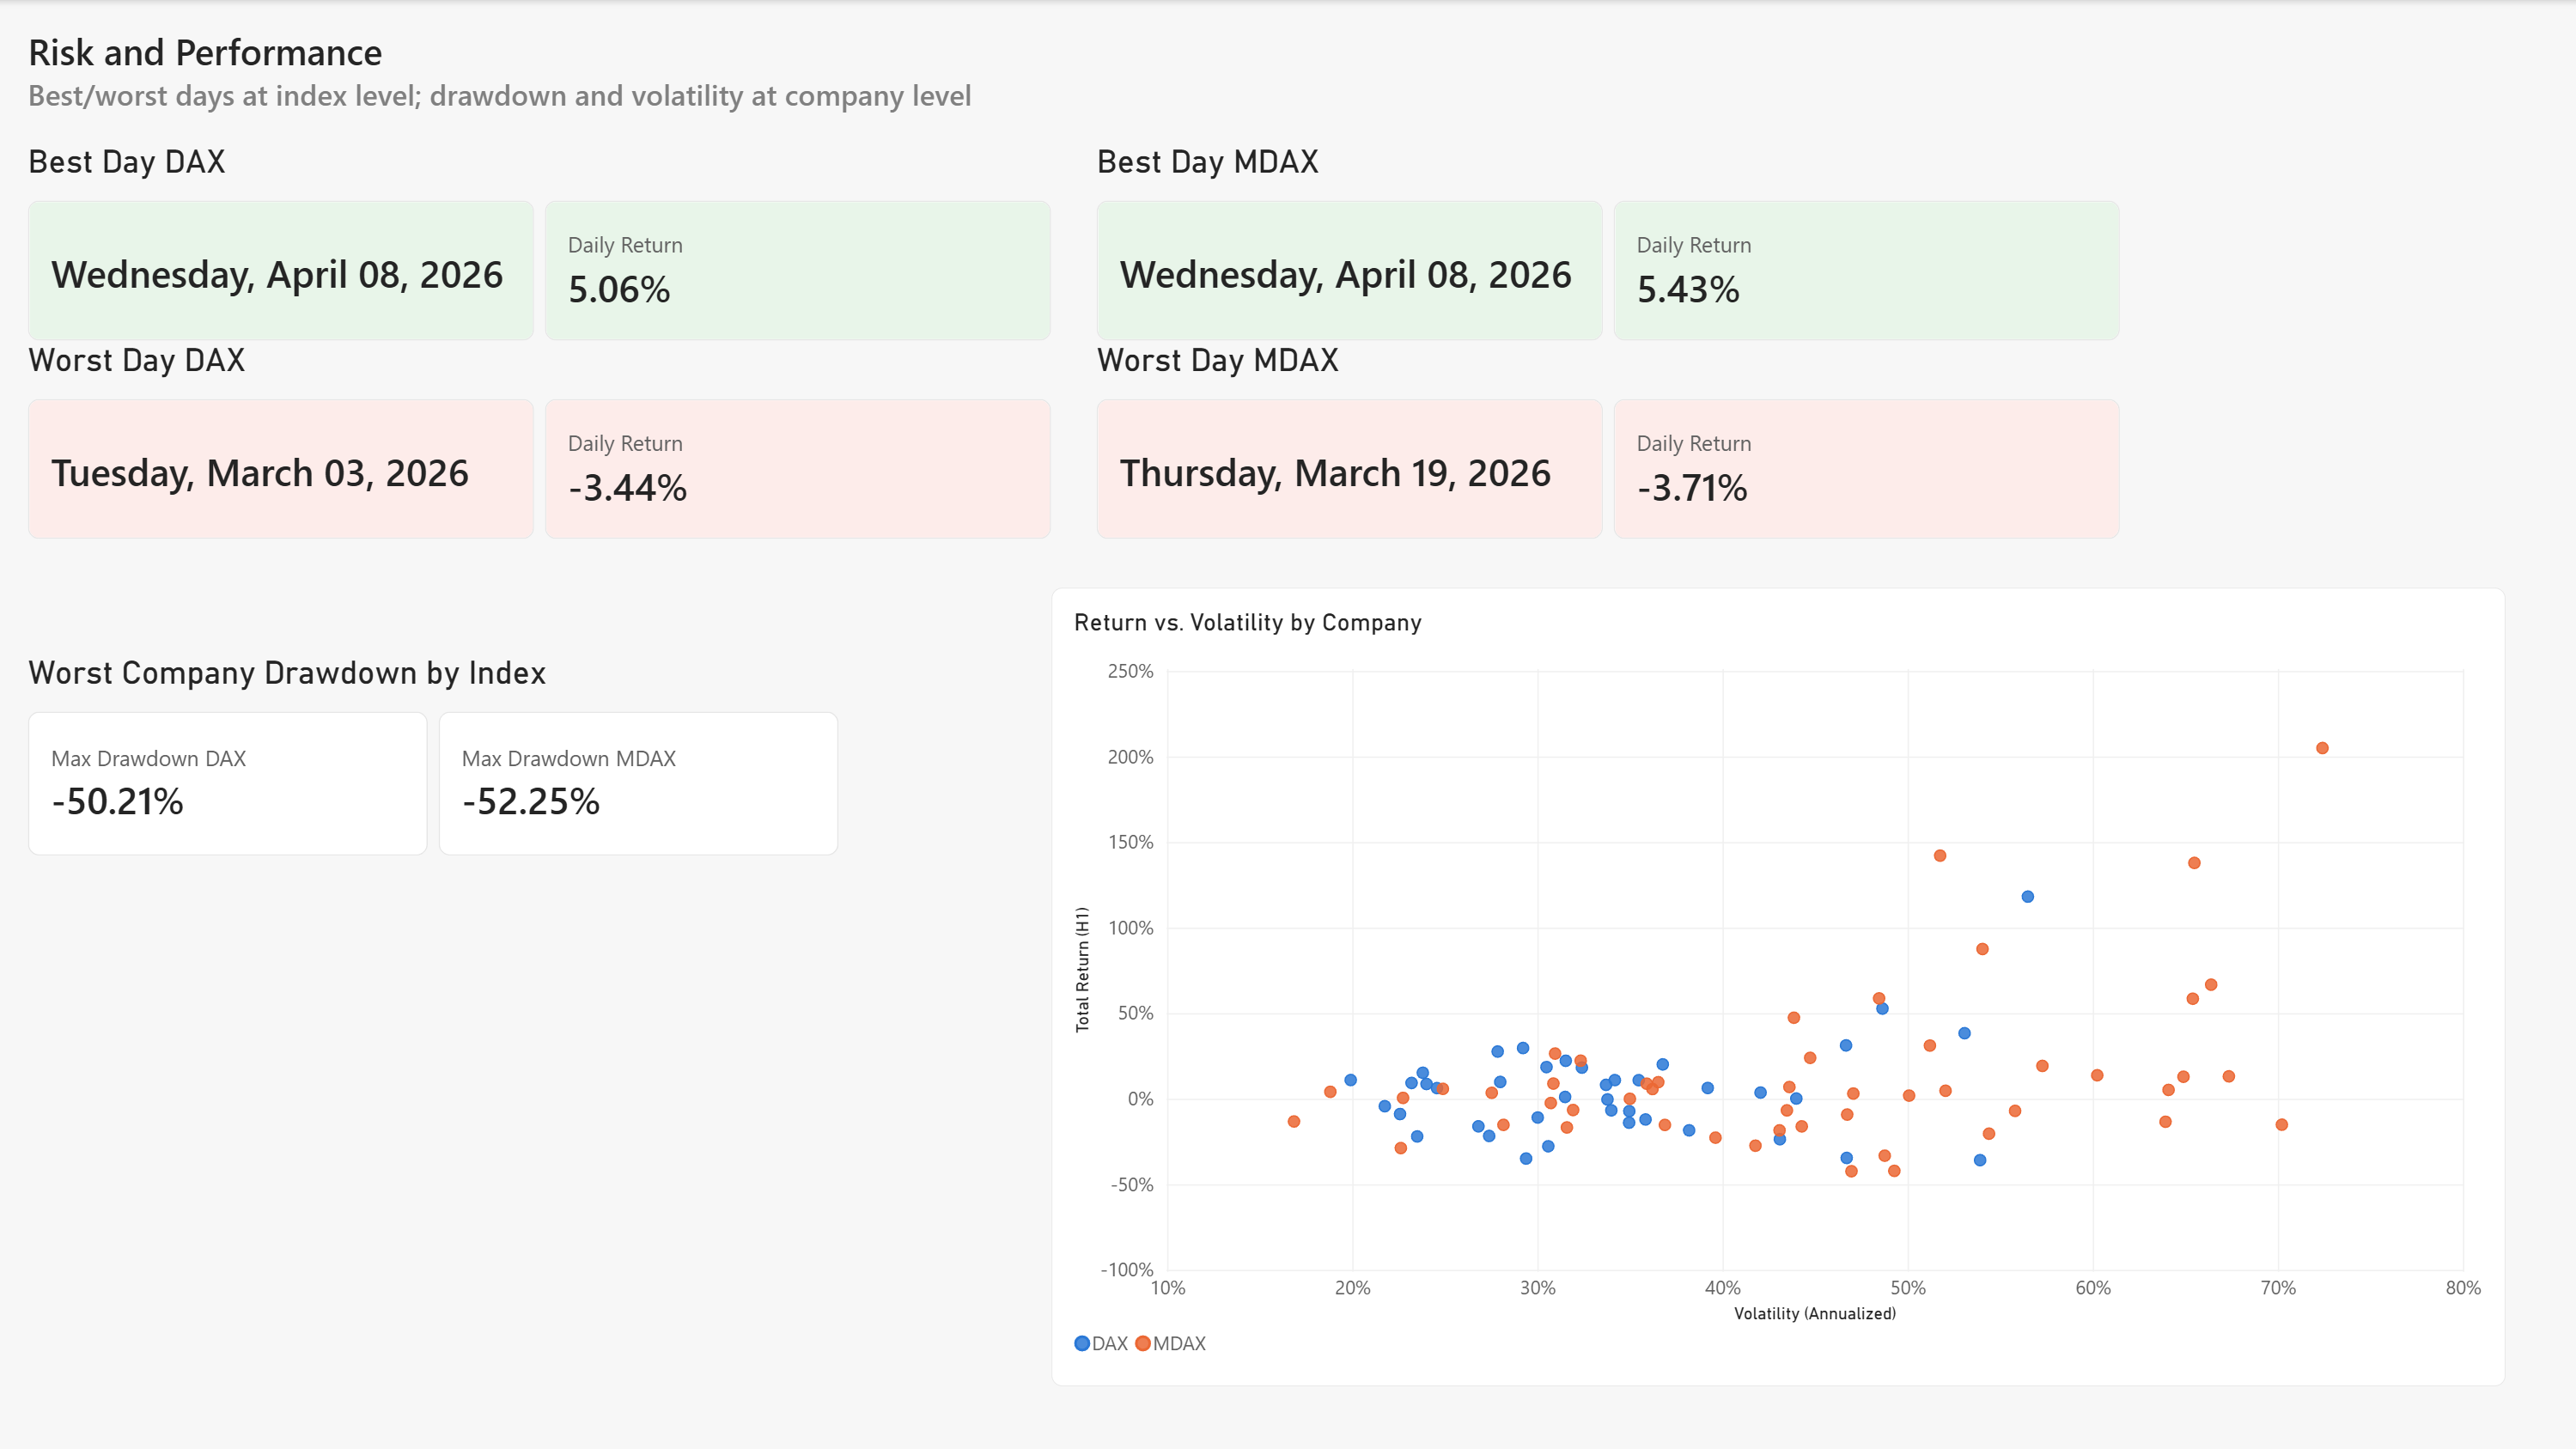

This screenshot's page, from the dashboard's own definition file:
{"tool":"powerbi","page":{"name":"Risk and Performance","canvas":[1920,1080],"ordinal":1},"visuals":[{"type":"scatterChart","title":"Return vs. Volatility by Company","fields":{"Category":["Fact_CompanySummary.name"],"Series":["Fact_CompanySummary.index_group"],"X":["Sum(Fact_CompanySummary.volatility_annualized)"],"Y":["Sum(Fact_CompanySummary.total_return)"]},"box":[784.7,437,1079.8,593.1],"z":0},{"type":"textbox","box":[24.1,19.9,627.2,150.4],"z":1000},{"type":"cardVisual","title":"Worst Day DAX","fields":{"Data":["Min(Fact_DailyMarketData.date)","Sum(Fact_DailyMarketData.daily_return)"]},"box":[24.1,254,760.5,147.6],"z":2000},{"type":"cardVisual","title":"Best Day MDAX","fields":{"Data":["Min(Fact_DailyMarketData.date)","Sum(Fact_DailyMarketData.daily_return)"]},"box":[818.7,106.4,760.5,147.6],"z":3000},{"type":"cardVisual","title":"Worst Day MDAX","fields":{"Data":["Min(Fact_DailyMarketData.date)","Sum(Fact_DailyMarketData.daily_return)"]},"box":[818.7,254,760.5,147.6],"z":4000},{"type":"cardVisual","title":"Best Day DAX","fields":{"Data":["Min(Fact_DailyMarketData.date)","Sum(Fact_DailyMarketData.daily_return)"]},"box":[24.1,106.4,760.5,147.6],"z":5000},{"type":"cardVisual","title":"Maximum Drawdown by Index","fields":{"Data":["_Mesures.Max Drawdown DAX","_Mesures.Max Drawdown MDAX"]},"box":[24.1,485.3,603,150.4],"z":6000}]}

Visuals, with their boxes in screenshot pixels (x1, y1, x2, y2), scaled from the page's 1920x1080 canvas onto the 2576x1449 screenshot:
"Return vs. Volatility by Company" scatterChart: (x1=1053, y1=587, x2=2501, y2=1382)
textbox: (x1=33, y1=27, x2=874, y2=228)
"Worst Day DAX" cardVisual: (x1=33, y1=341, x2=1053, y2=539)
"Best Day MDAX" cardVisual: (x1=1099, y1=143, x2=2119, y2=341)
"Worst Day MDAX" cardVisual: (x1=1099, y1=341, x2=2119, y2=539)
"Best Day DAX" cardVisual: (x1=33, y1=143, x2=1053, y2=341)
"Maximum Drawdown by Index" cardVisual: (x1=33, y1=651, x2=842, y2=853)
